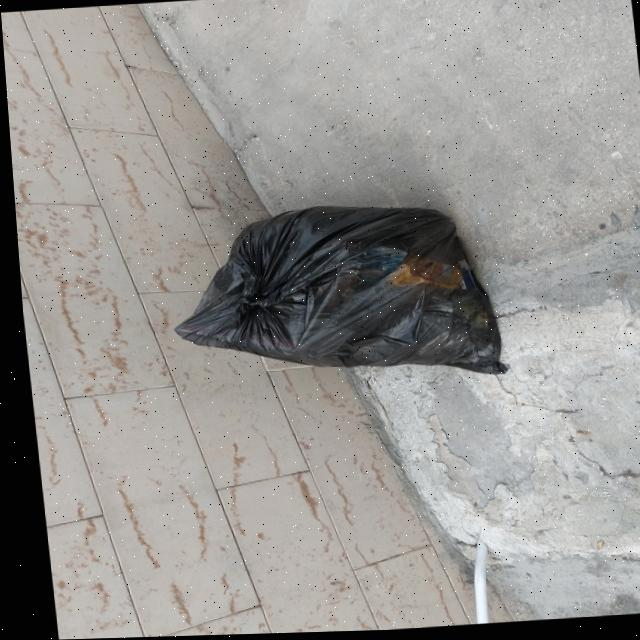Mixed Waste -Black Bag-: (151, 192, 517, 400)
